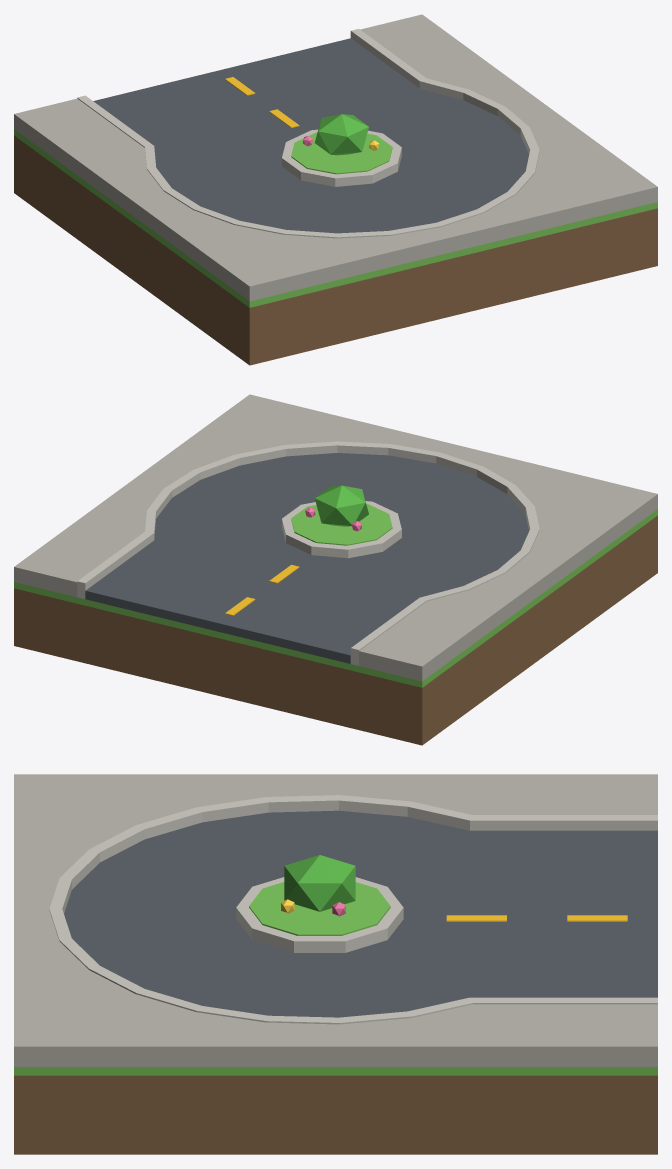
The model's file is asfalto_ponta.glb.
3 renders of one model, top to bottom at view 1: azimuth 30°, elevation 25°; view 2: azimuth 150°, elevation 25°; view 3: azimuth 270°, elevation 25°, orthographic. The views are drawn at different scales.
Parts seen in each view (by area): view 1: corpo; view 2: corpo; view 3: corpo.
Part boxes in pixels (x1=…): corpo: x1=14, y1=14, x2=657, y2=365; corpo: x1=14, y1=394, x2=657, y2=745; corpo: x1=14, y1=774, x2=657, y2=1154.
Bounding box in the file's own units: 2 × 0.5605 × 2.
